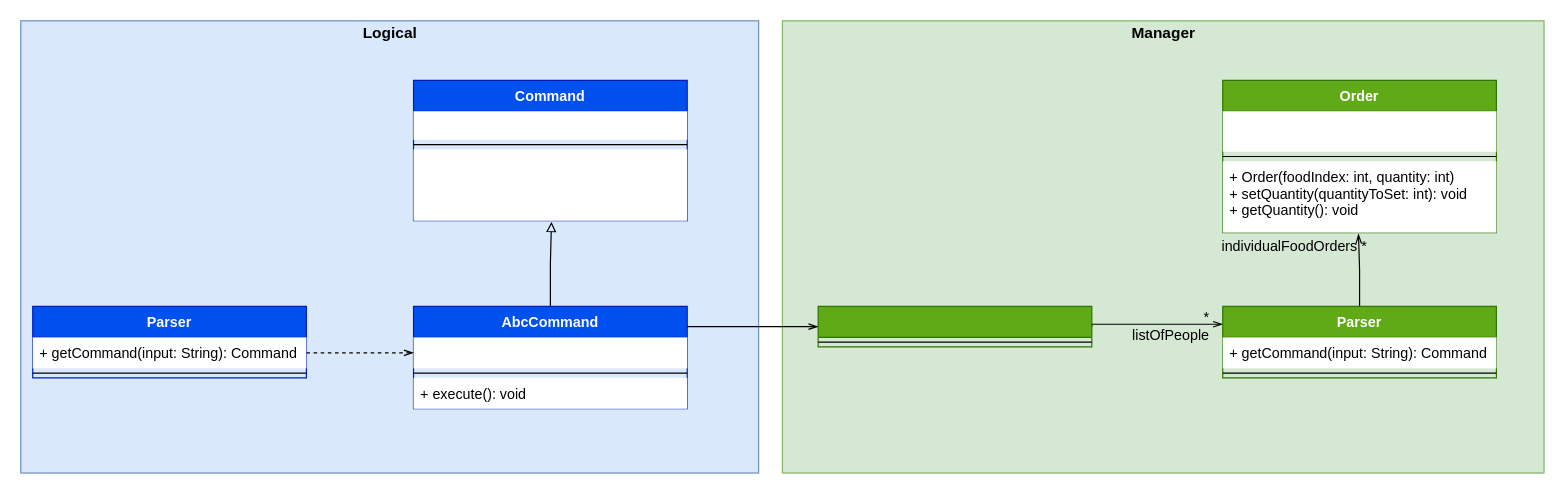
The diagram is 1565 pixels wide and 494 high, and some of its shapes have lost their labels. The centre of each missing label's shape, as x and y in pixels:
"# peopleManager: PeopleManager" belongs at pixel 550 125.
"+ Command() + setData(manager: PeopleManager) + execute(): void" belongs at pixel 550 184.
"+ COMMAND_WORD: String" belongs at pixel 550 352.
"- foodIndex: int - quantity: int" belongs at pixel 1359 131.
"PeopleManager" belongs at pixel 954 326.
